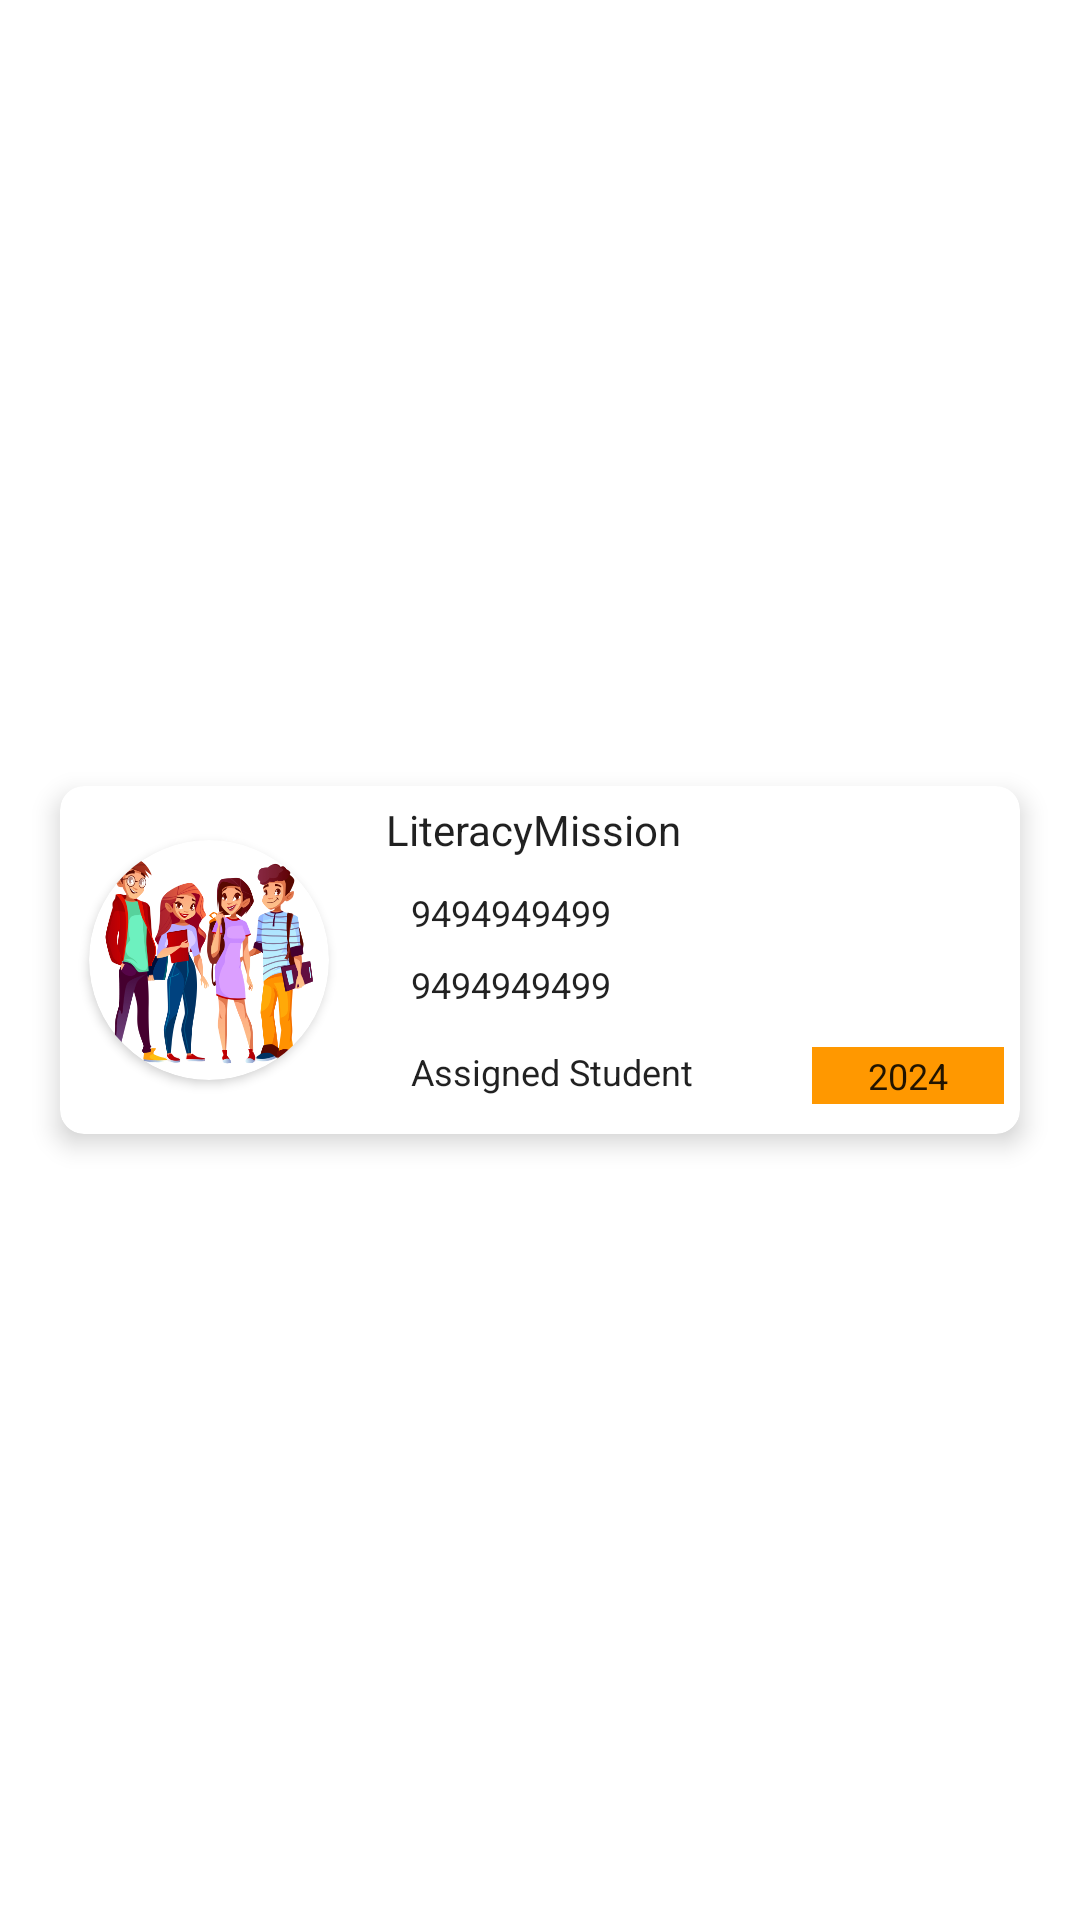

Where icons sit on this 1080 × 1920 app screen, as rect(x1, y1, x2, y2):
volunteer: rect(89, 861, 313, 1080)
